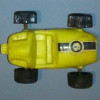carro: (2, 14, 97, 83)
